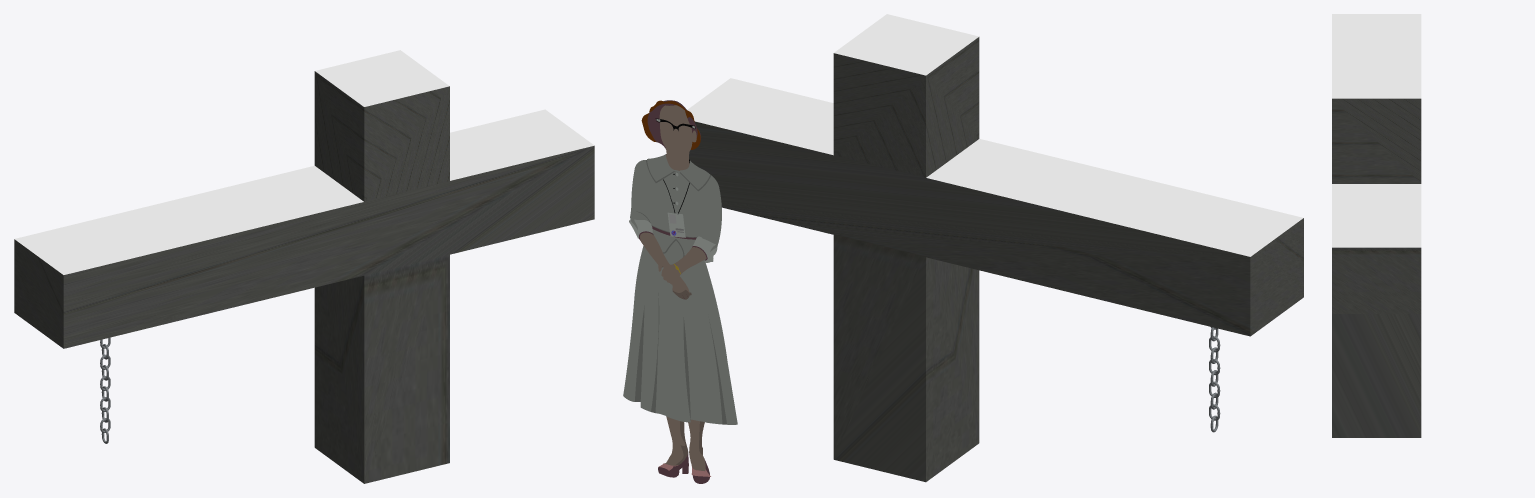
Rendered from CPT Crane 2.3ds.glb.
3 renders of one model, left to right at view 1: azimuth 30°, elevation 25°; view 2: azimuth 150°, elevation 25°; view 3: azimuth 270°, elevation 25°, orthographic. The views are drawn at different scales.
Parts seen in each view (by area): view 1: Model; view 2: Model, Katherine_; view 3: Model.
Part boxes in pixels (x1=…): Model: x1=14, y1=50, x2=594, y2=483; Model: x1=687, y1=14, x2=1303, y2=482; Katherine_: x1=623, y1=100, x2=737, y2=483; Model: x1=1332, y1=14, x2=1421, y2=437.
Size of the model in its own units: 104 by 70.38 by 35.45.
54 materials, 13 textured.
